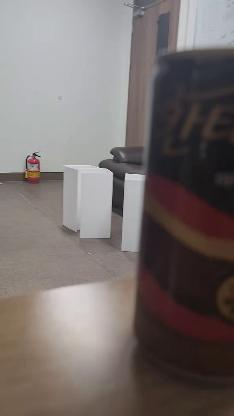Can: (142, 58, 234, 384)
